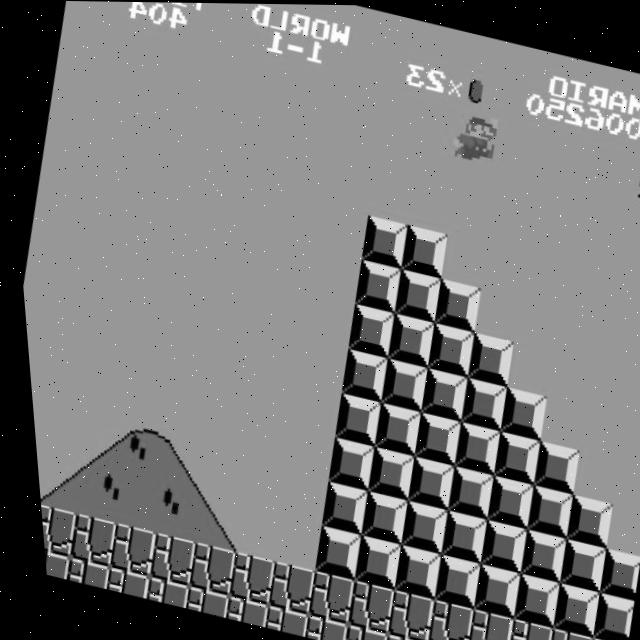11- little_mario: (445, 106, 502, 164)
17- undestructible_block: (333, 578, 387, 633), (135, 531, 189, 586), (254, 560, 308, 614), (175, 541, 229, 595), (294, 569, 347, 624), (215, 550, 268, 605), (57, 512, 110, 567), (96, 522, 149, 576), (373, 588, 426, 640), (412, 597, 465, 640), (32, 503, 71, 557), (452, 607, 504, 640), (252, 603, 299, 636), (212, 594, 259, 627), (133, 575, 180, 608), (54, 556, 101, 589), (173, 585, 220, 617), (94, 566, 141, 598), (291, 613, 338, 640), (491, 616, 543, 640), (35, 547, 61, 579), (331, 622, 377, 640), (531, 626, 582, 640), (370, 632, 416, 640), (571, 635, 616, 640)
7- goal_pole: (55, 4, 73, 50), (25, 181, 43, 227), (17, 226, 35, 272), (40, 93, 58, 138), (32, 137, 50, 182), (48, 48, 65, 94), (17, 270, 28, 315)
9- hard_block: (420, 553, 474, 608), (363, 401, 417, 456), (521, 439, 575, 493), (506, 528, 560, 582), (499, 572, 553, 626), (457, 331, 511, 385), (442, 420, 496, 474), (427, 509, 481, 563), (410, 366, 464, 420), (385, 268, 439, 322), (378, 312, 432, 366), (348, 490, 402, 544), (353, 214, 407, 268), (301, 525, 355, 579), (546, 537, 599, 592), (539, 581, 592, 636), (482, 429, 535, 484), (467, 518, 520, 573), (460, 562, 513, 617), (425, 277, 478, 332), (418, 321, 471, 376), (403, 410, 456, 465), (388, 499, 441, 554), (341, 534, 394, 589), (346, 258, 399, 313), (339, 302, 392, 357), (324, 391, 377, 446), (309, 480, 362, 535), (514, 483, 567, 537), (489, 385, 543, 438), (450, 375, 503, 429), (435, 464, 488, 518), (395, 455, 449, 508), (381, 544, 434, 598), (393, 223, 446, 277), (356, 445, 409, 499), (331, 347, 384, 401), (316, 436, 370, 489), (554, 493, 607, 546), (475, 474, 528, 527), (371, 357, 424, 410), (586, 546, 634, 600), (579, 590, 626, 640)
